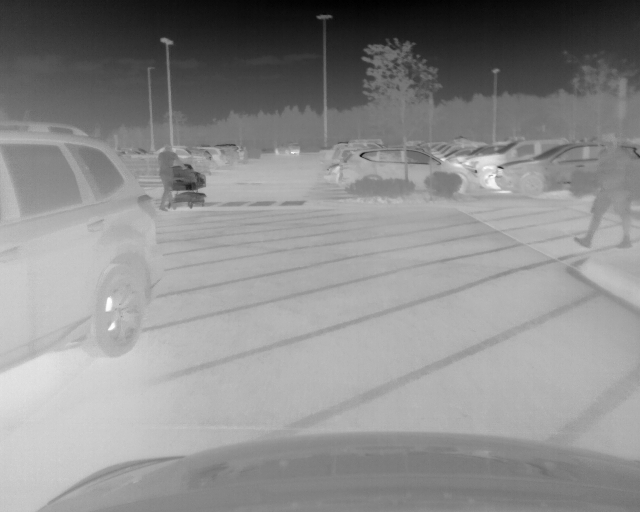car: (2, 120, 168, 375), (498, 139, 640, 198), (338, 147, 479, 193), (462, 137, 579, 188), (158, 142, 208, 161), (200, 147, 228, 168), (220, 143, 240, 166), (275, 141, 301, 154)
people: (575, 133, 637, 248), (158, 144, 187, 210)
